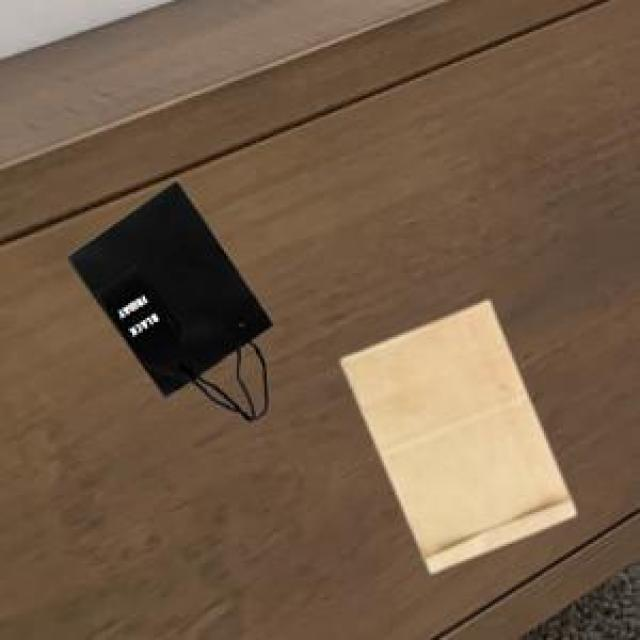paper: (337, 297, 572, 568), (64, 177, 269, 418)
